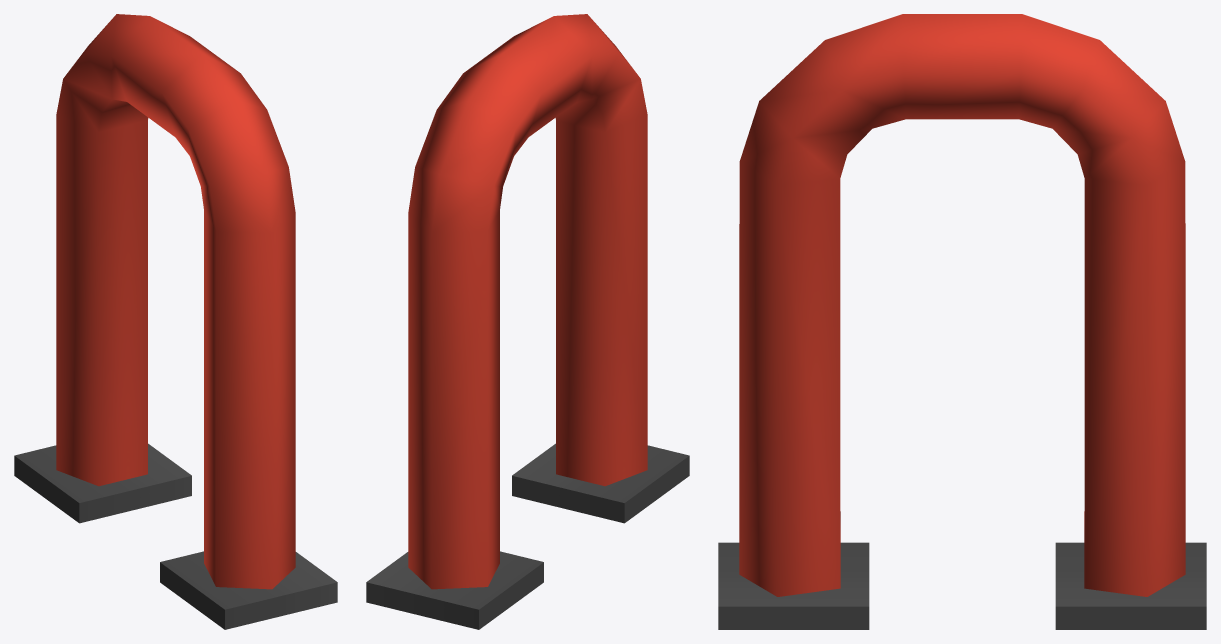
Rendered from Bollards_3_C.fbx.
3 renders of one model, left to right at view 1: azimuth 30°, elevation 25°; view 2: azimuth 150°, elevation 25°; view 3: azimuth 270°, elevation 25°, orthographic. The views are drawn at different scales.
Parts seen in each view (by area): view 1: Bollards_3_C; view 2: Bollards_3_C; view 3: Bollards_3_C.
Boxes of the visible parts, x1,y1,x2,y2 form: Bollards_3_C: (14,14,337,629); Bollards_3_C: (366,14,689,629); Bollards_3_C: (718,14,1206,629).
Bounding box in the file's own units: 15.3 × 65.37 × 49.51.
